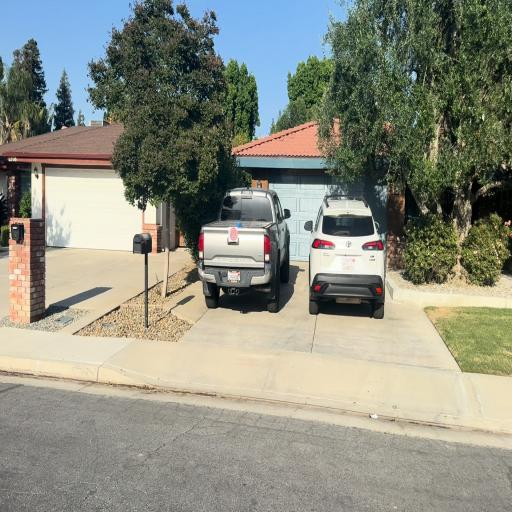bullseye: (230, 227, 238, 242)
